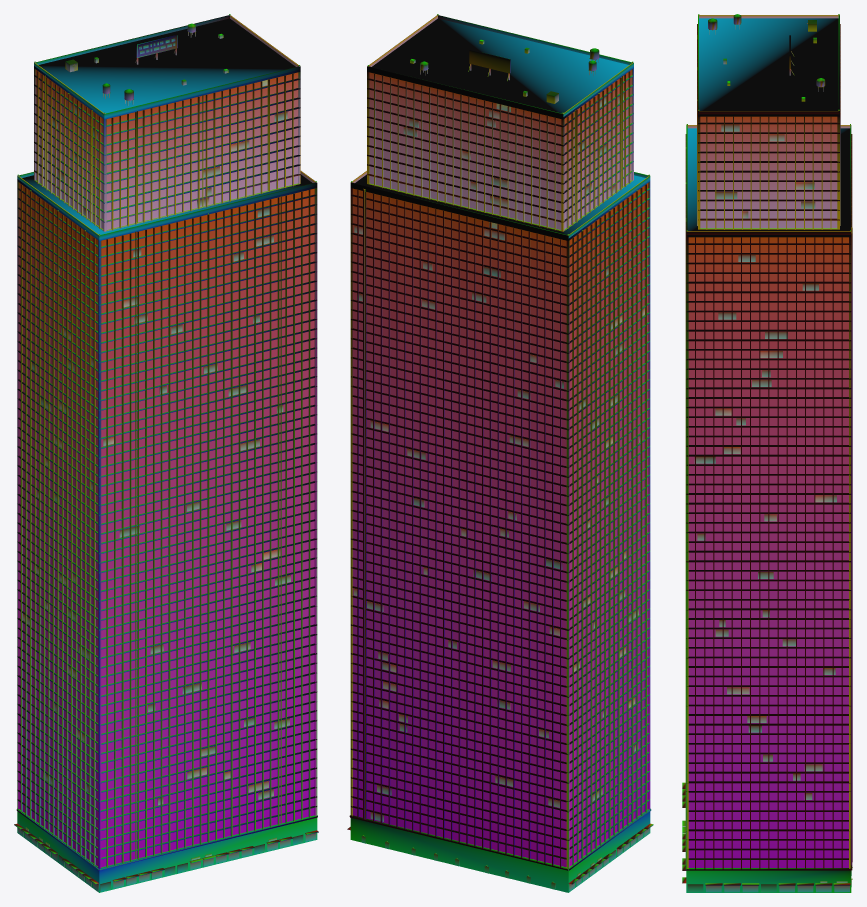
File: Tower_Monolith_V13.fbx
3 renders of one model, left to right at view 1: azimuth 30°, elevation 25°; view 2: azimuth 150°, elevation 25°; view 3: azimuth 270°, elevation 25°, orthographic.
Visible parts, largest first — view 1: Tower_Monolith_V13_LOD0; view 2: Tower_Monolith_V13_LOD0; view 3: Tower_Monolith_V13_LOD0.
Part boxes in pixels (<box>): Tower_Monolith_V13_LOD0: <box>14,14,318,892</box>; Tower_Monolith_V13_LOD0: <box>347,14,653,892</box>; Tower_Monolith_V13_LOD0: <box>682,14,852,892</box>.
Size of what is drawn, in the model's own units: 88.8 by 298 by 57.83.
